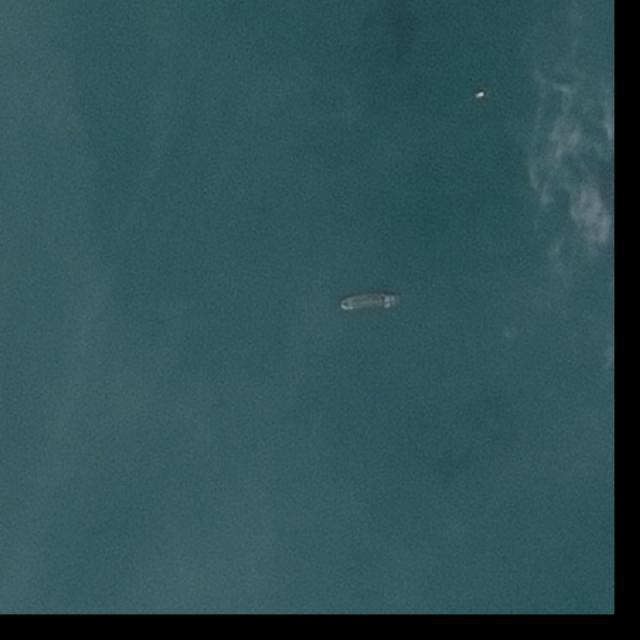ship: (339, 291, 402, 312), (474, 90, 486, 99)
